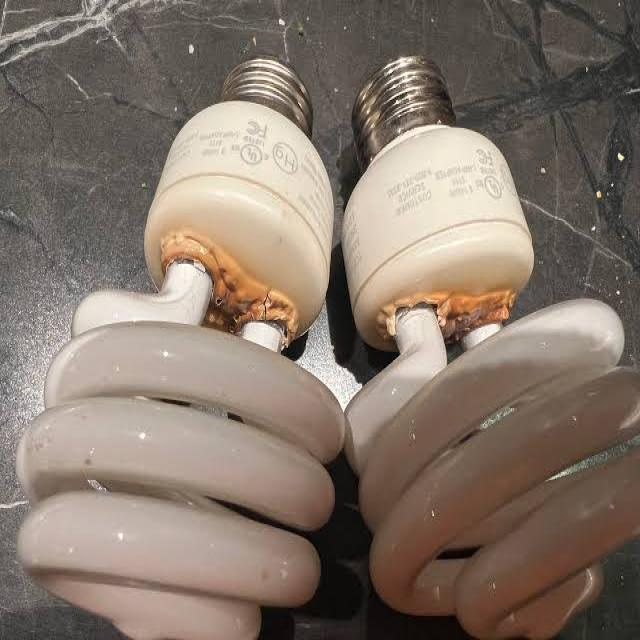bulb: (20, 67, 342, 640)
